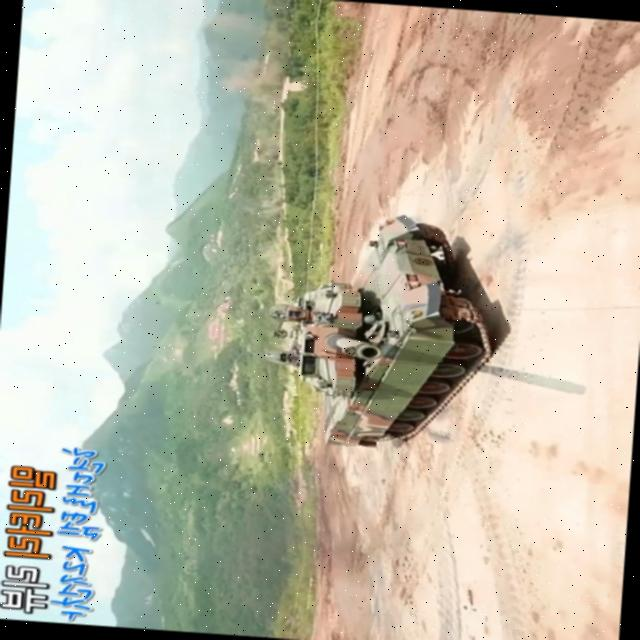korea tank: (257, 205, 499, 456)
